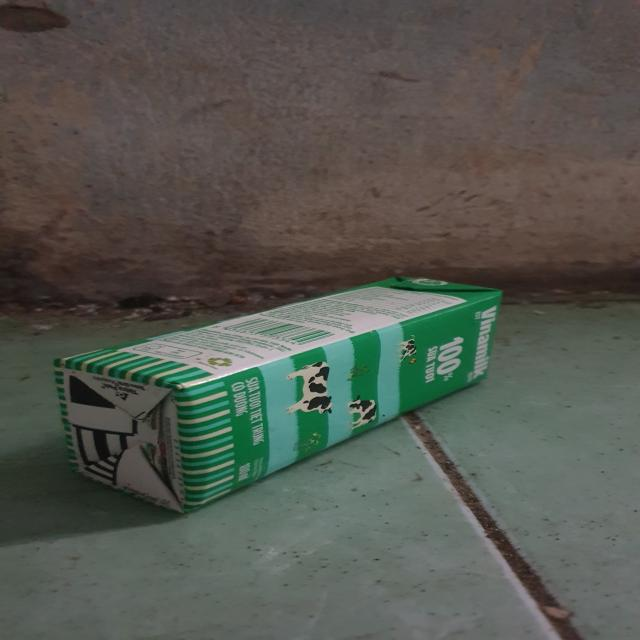Vina: (52, 274, 503, 512)
